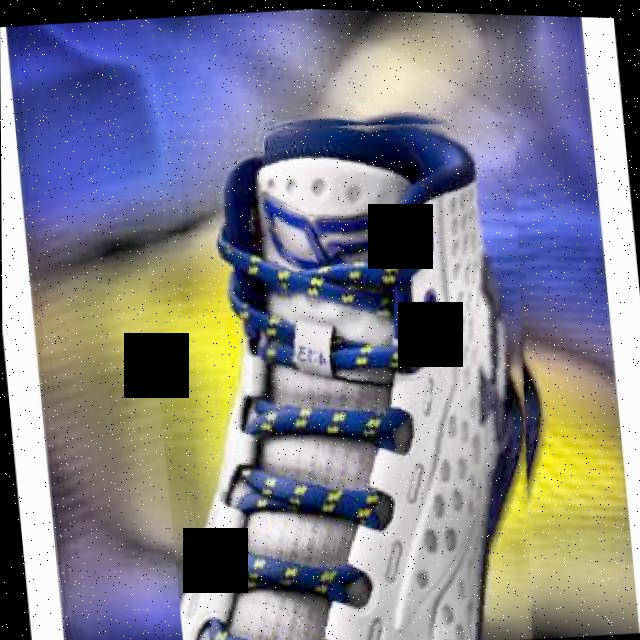shoe: (134, 95, 562, 640)
